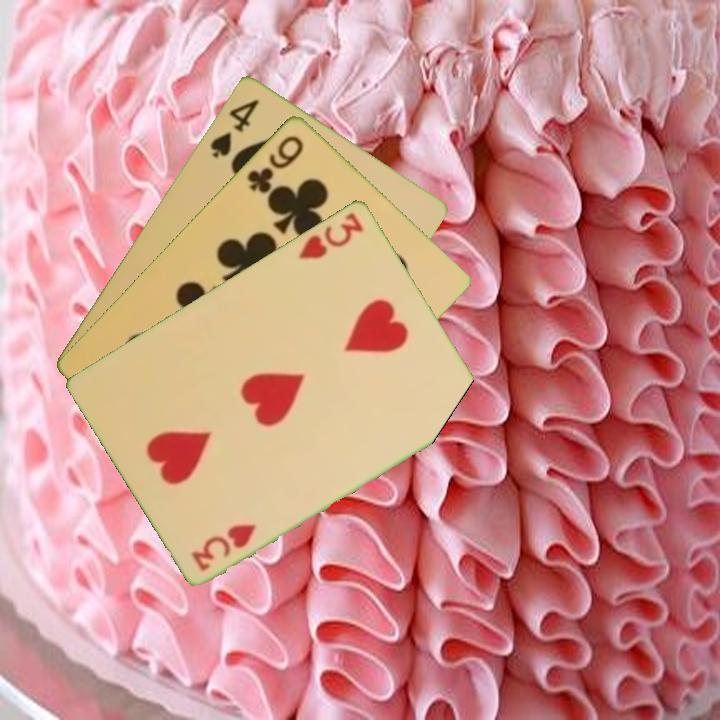3h: (188, 519, 259, 574), (295, 208, 367, 262)
4s: (206, 94, 262, 161)
9c: (243, 131, 307, 196)
